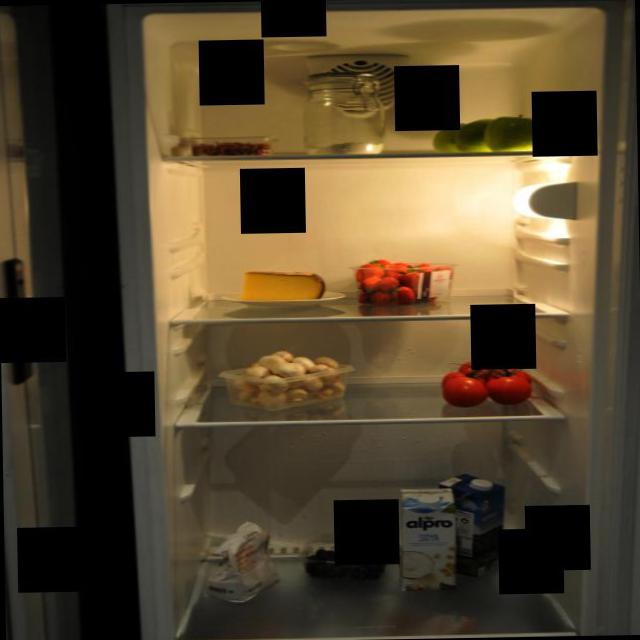Champiñones: (212, 348, 359, 412)
Gambas/Langostinos: (186, 132, 272, 158)
Leche: (436, 473, 508, 580), (396, 486, 458, 592)
Manzana: (434, 110, 547, 156)
Queso: (238, 266, 330, 306)
Tomate: (437, 350, 538, 410)
blueberries: (304, 539, 382, 582)
flour: (293, 62, 399, 155), (194, 518, 285, 604)
strawberries: (352, 258, 457, 305)
